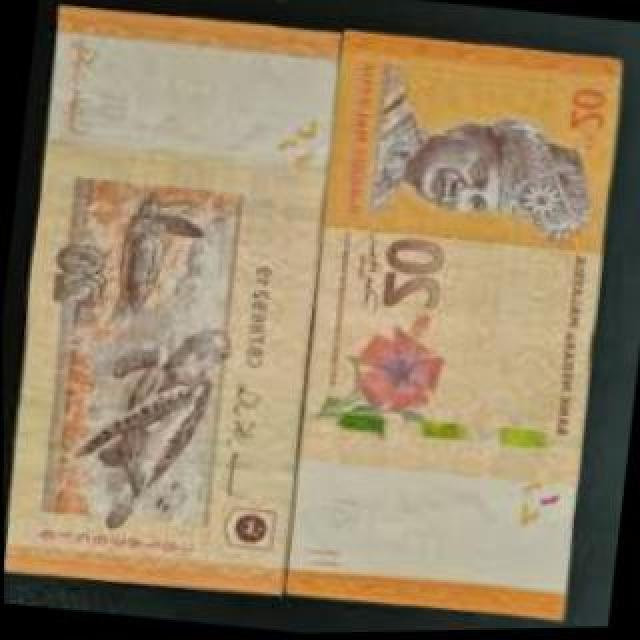20 Ringgit: (272, 26, 626, 634), (0, 0, 342, 602)
